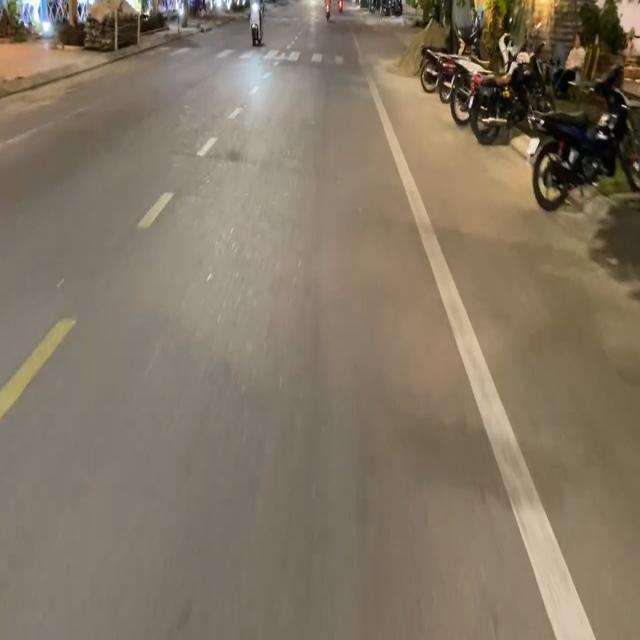walk-crossing: (145, 44, 362, 66)
